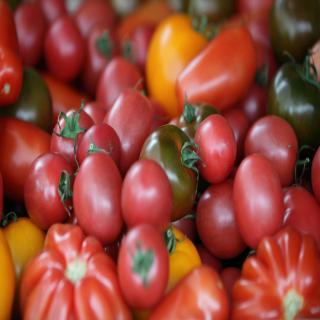tomato: (148, 15, 216, 116), (139, 124, 203, 221), (232, 154, 284, 248), (74, 150, 120, 245), (104, 89, 156, 172), (118, 223, 168, 309), (24, 148, 74, 232), (0, 117, 50, 199), (193, 181, 245, 257), (121, 158, 174, 232), (245, 114, 298, 183), (96, 44, 143, 112), (51, 100, 95, 167), (194, 112, 237, 180), (82, 21, 118, 93), (162, 227, 200, 294), (46, 14, 84, 80), (78, 120, 122, 171), (12, 0, 46, 62), (0, 45, 22, 105)
